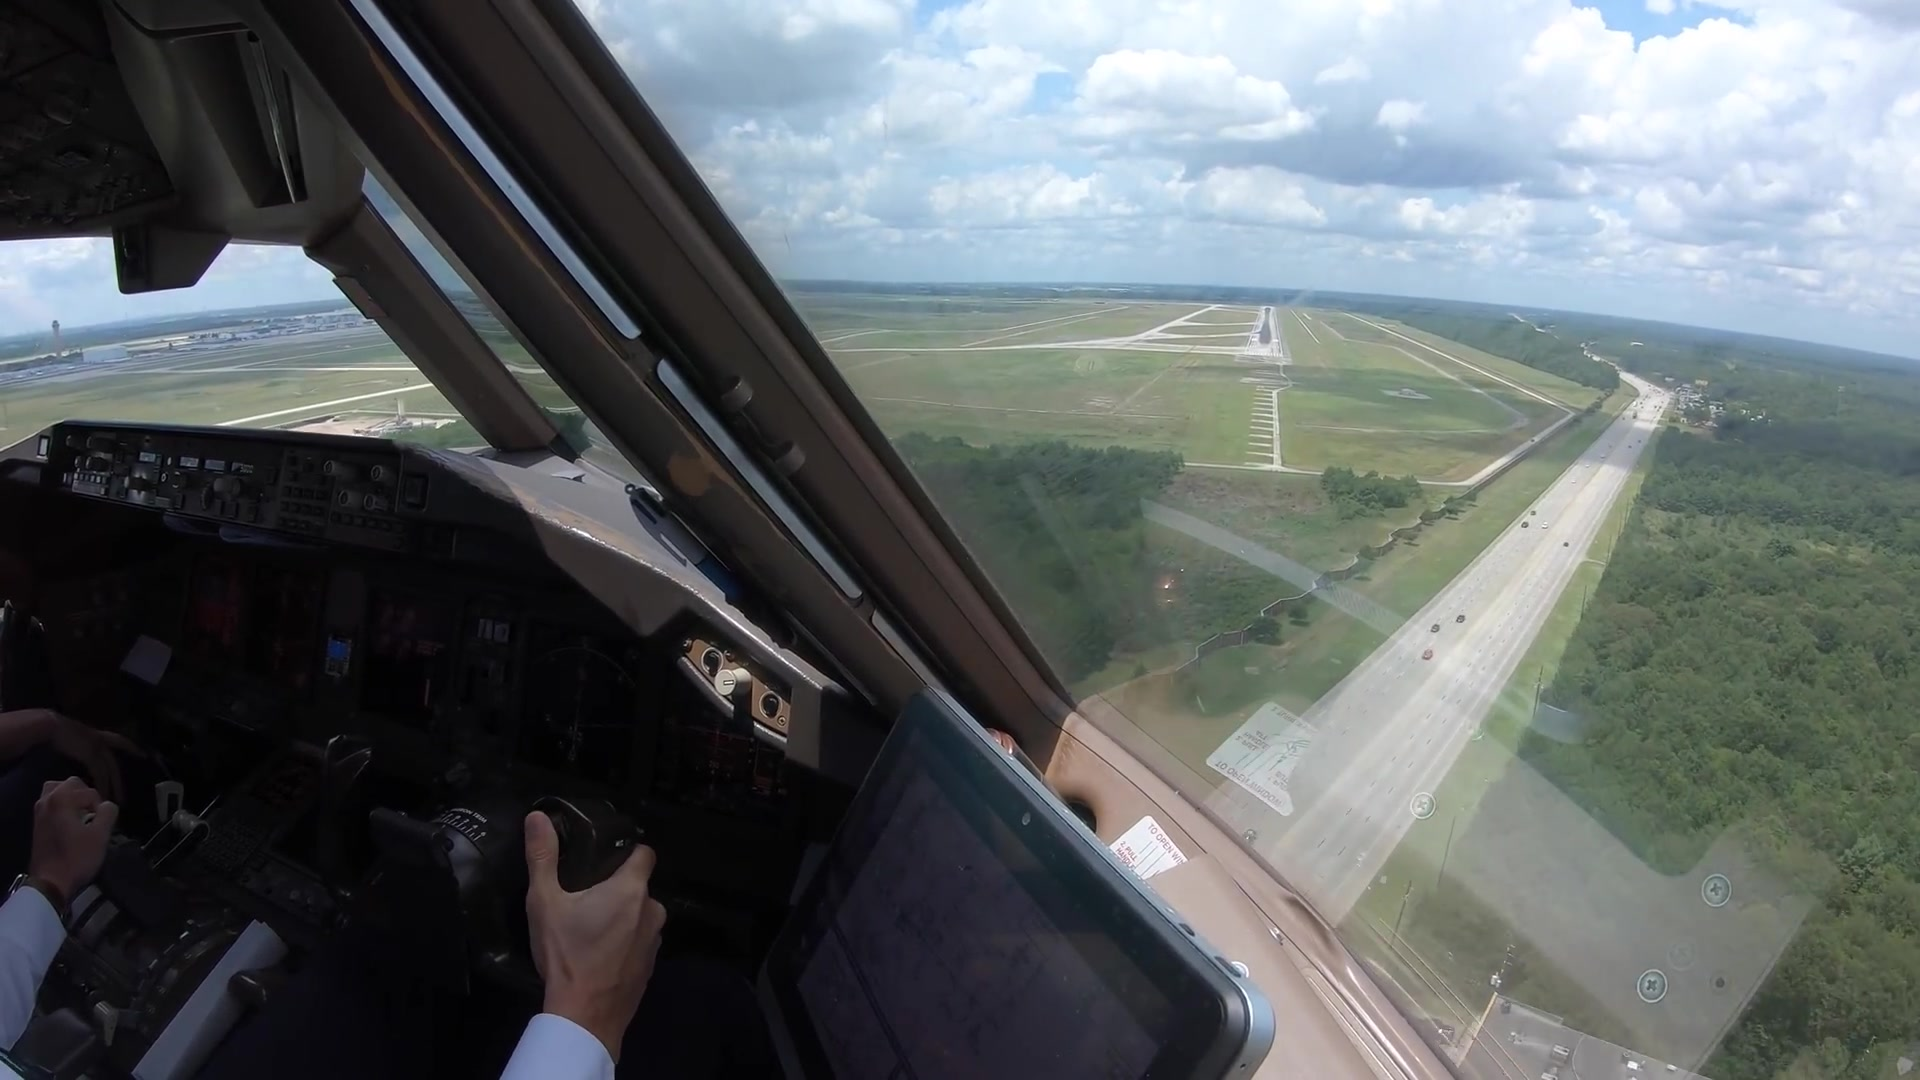runway: (1244, 305, 1283, 361)
